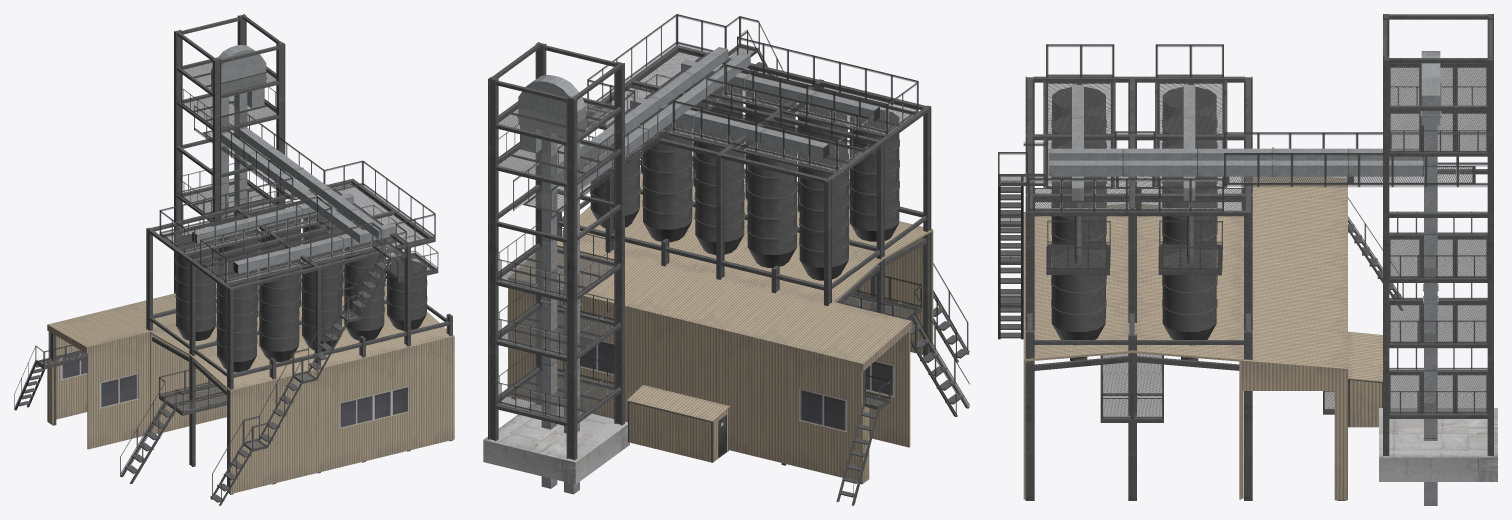
File: plant-building11.glb
The picture shows the model from 3 angles, left to right: view 1: azimuth 30°, elevation 25°; view 2: azimuth 150°, elevation 25°; view 3: azimuth 270°, elevation 25°; orthographic projection. The views are drawn at different scales.
Parts seen in each view (by area): view 1: Object8932609; view 2: Object8932609; view 3: Object8932609.
Boxes of the visible parts, box(x1,y1,x2,y2) form: Object8932609: box(14, 14, 454, 505); Object8932609: box(483, 14, 969, 505); Object8932609: box(998, 14, 1497, 505).
Size of the model in its own units: 22.85 by 23.89 by 23.5.
Materials: 1 (1 with a texture image).
